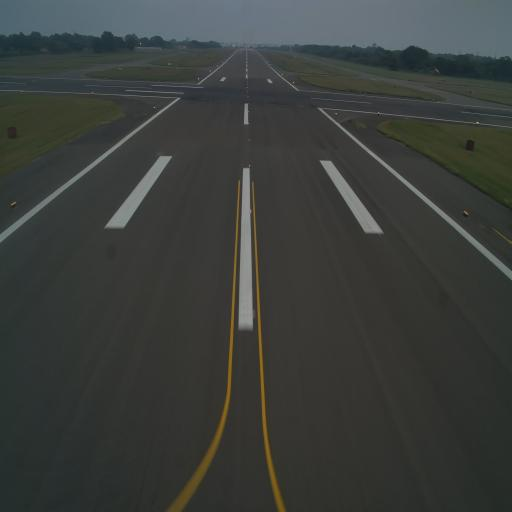on: (461, 206, 471, 220), (9, 196, 19, 209), (251, 308, 258, 325), (247, 203, 256, 216), (248, 161, 252, 171), (247, 135, 252, 143), (153, 104, 157, 112), (334, 110, 338, 117), (247, 122, 250, 126), (247, 110, 250, 114)
